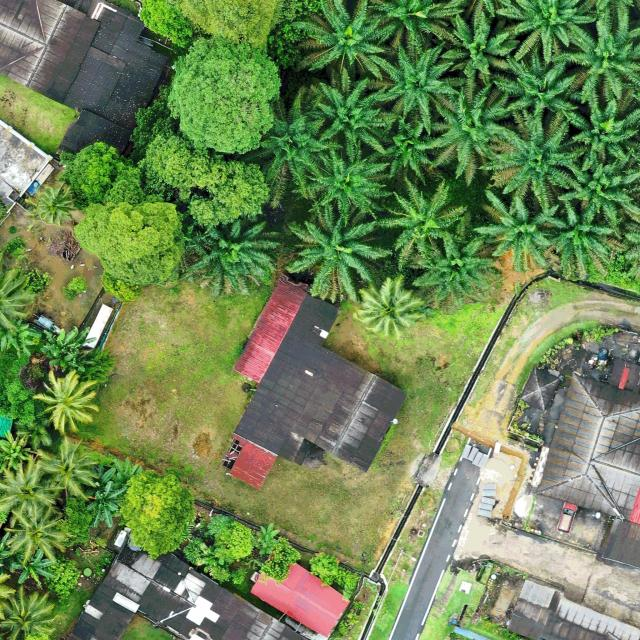Tree: (165, 32, 282, 158), (477, 104, 592, 216), (137, 134, 269, 228), (420, 67, 511, 186), (285, 205, 389, 306), (357, 42, 463, 136), (249, 85, 332, 205), (71, 202, 187, 284), (304, 63, 398, 162), (552, 1, 640, 102), (290, 0, 396, 81), (57, 138, 166, 214), (297, 138, 396, 218), (492, 52, 584, 135), (406, 225, 502, 304), (187, 217, 278, 297), (474, 185, 558, 271), (427, 8, 515, 90), (121, 469, 196, 562), (380, 174, 465, 256), (557, 150, 640, 230), (492, 1, 596, 64), (542, 198, 621, 280), (572, 91, 640, 171), (374, 113, 443, 185), (30, 367, 99, 436), (354, 274, 426, 339), (34, 434, 104, 498), (6, 503, 70, 564), (0, 587, 64, 640), (0, 463, 60, 513), (309, 550, 361, 602), (21, 182, 81, 227), (40, 326, 96, 373), (204, 513, 253, 563), (258, 536, 302, 587), (85, 479, 129, 530), (12, 547, 56, 585), (0, 431, 34, 473), (0, 324, 42, 358), (253, 521, 280, 559)
